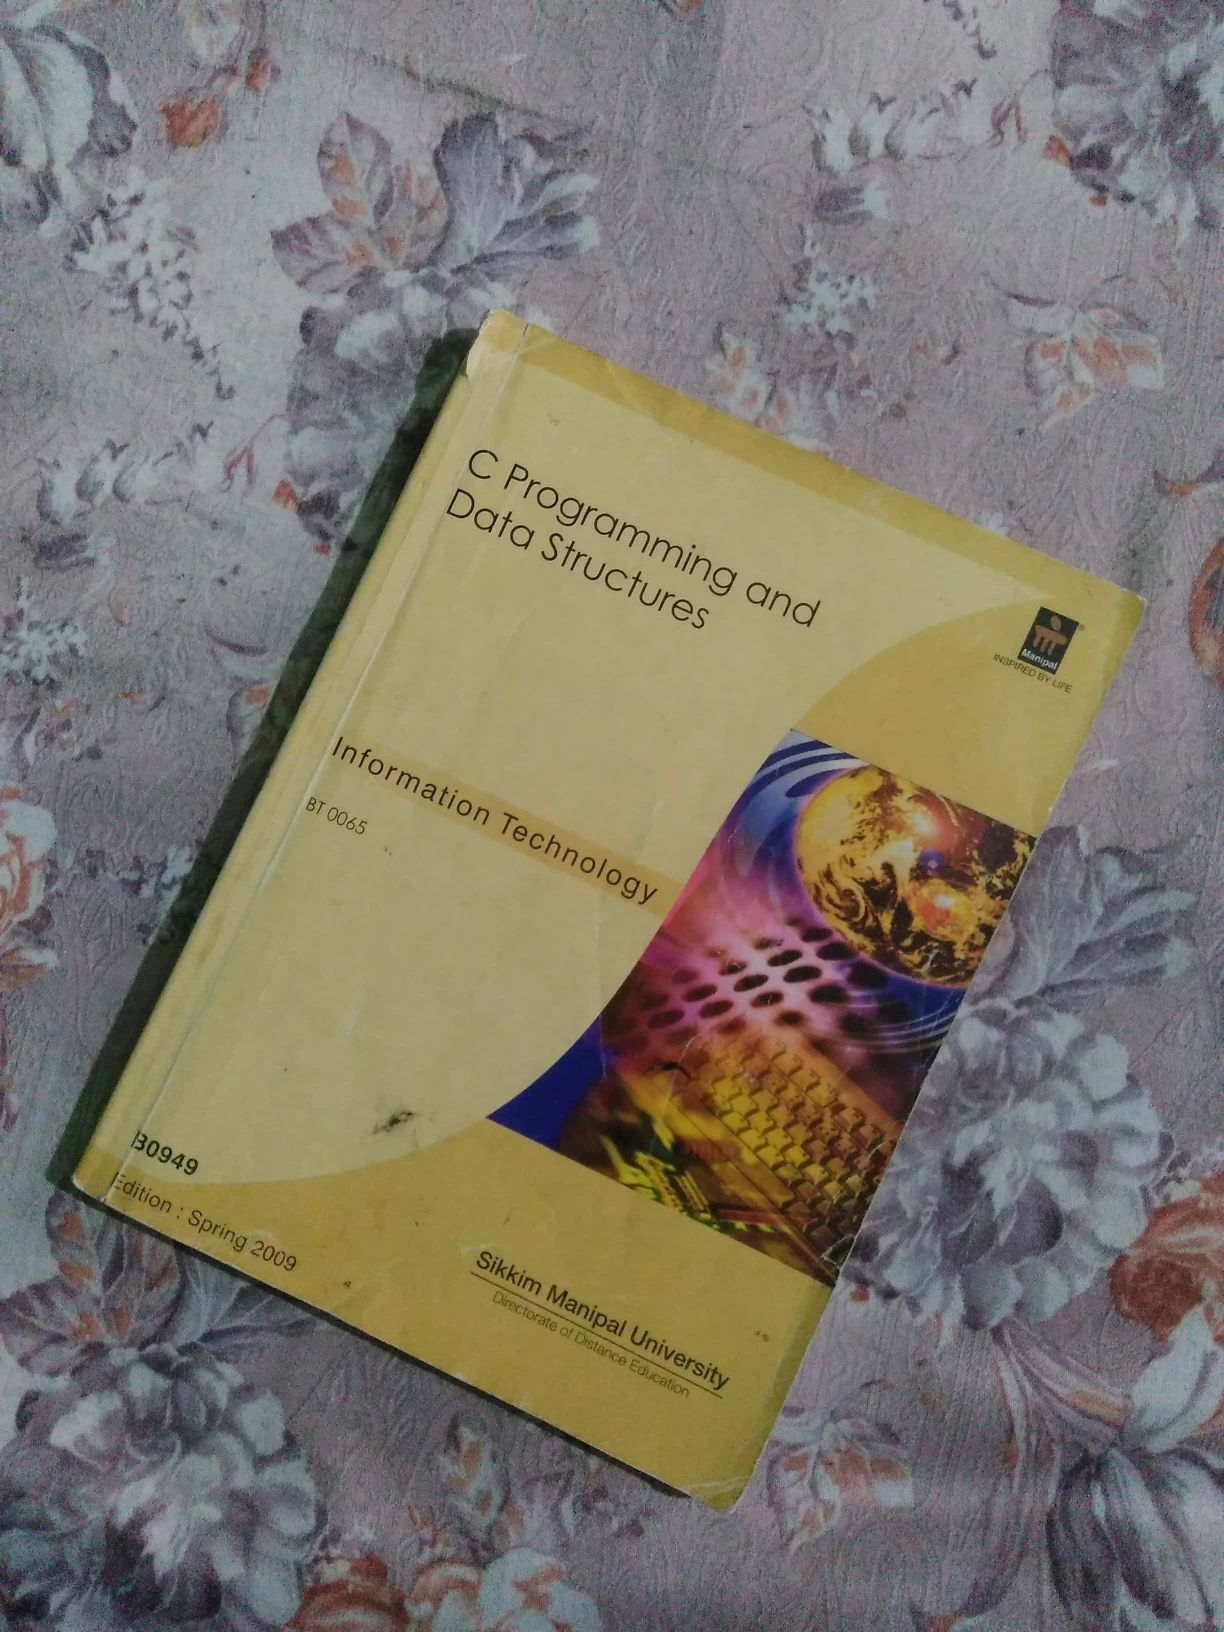clang: (102, 324, 1125, 1515)
